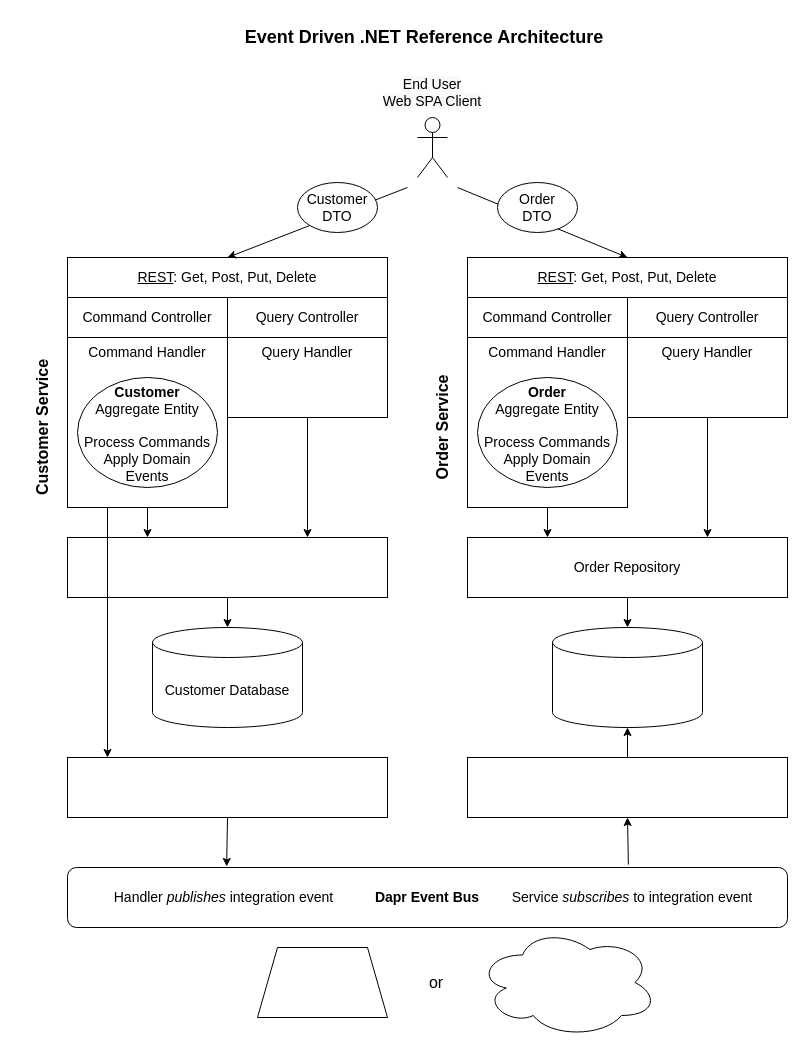
Some shapes in this 805 by 1055 pixel diagram are drawn without their labels. The centre of each missing label's shape, as x and y in pixels:
AWS SNS+SQS (Local or Cloud): point (567, 982)
Customer Address Changed Event Handler: point (627, 787)
Customer Address Changed Integration Event: point (227, 787)
Customer Repository: point (227, 567)
Order Database: point (627, 677)
Redis (Local): point (322, 982)
